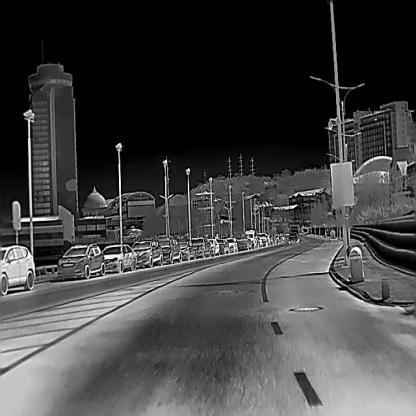car: (0, 242, 36, 296), (56, 242, 105, 280), (102, 244, 137, 273), (130, 239, 163, 267), (156, 238, 182, 262), (190, 237, 212, 259), (176, 238, 196, 261), (207, 238, 220, 257), (244, 232, 258, 249), (216, 237, 229, 255), (224, 237, 238, 253), (237, 234, 250, 251), (288, 219, 301, 232), (287, 231, 299, 244)
